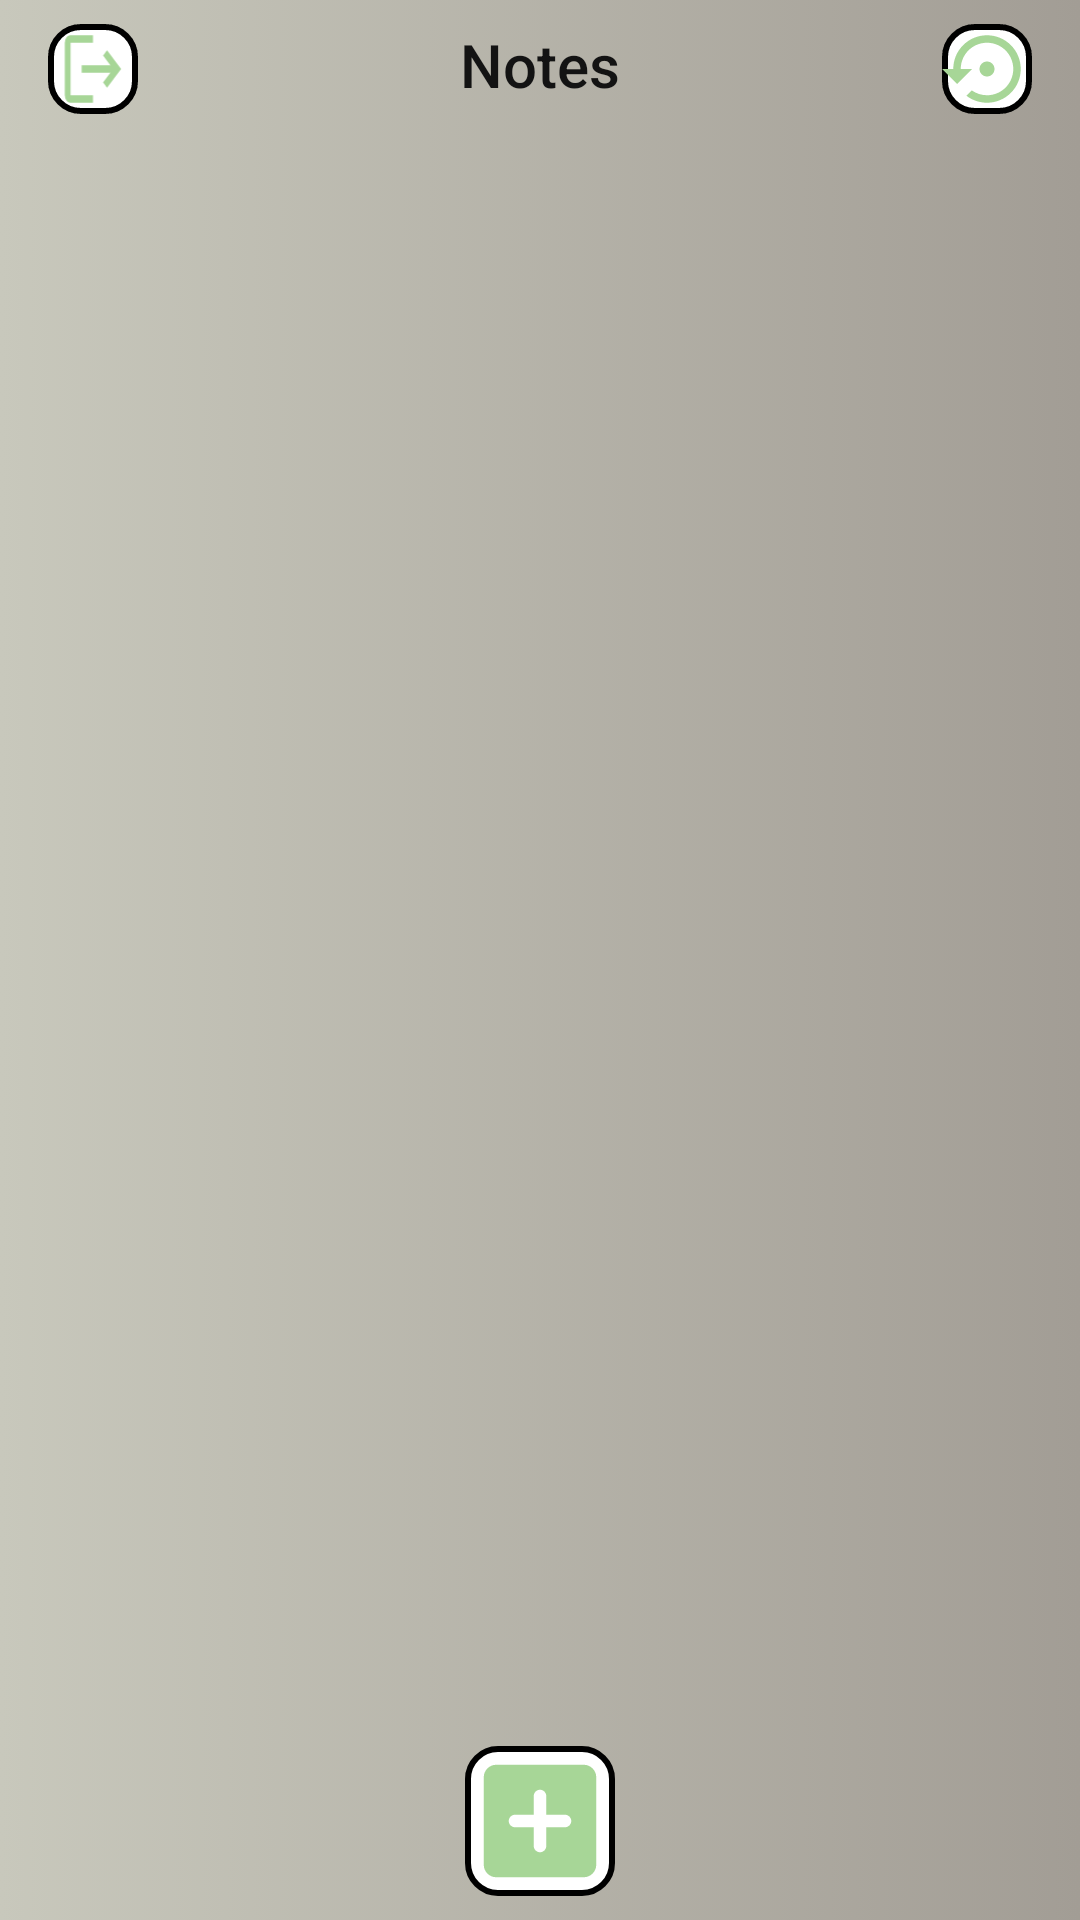

Screen size 1080 × 1920. Icon name, then its box in pixels as (x1, y1, x2, y2):
add box: (465, 1746, 615, 1896)
settings backup restore: (942, 24, 1032, 114)
